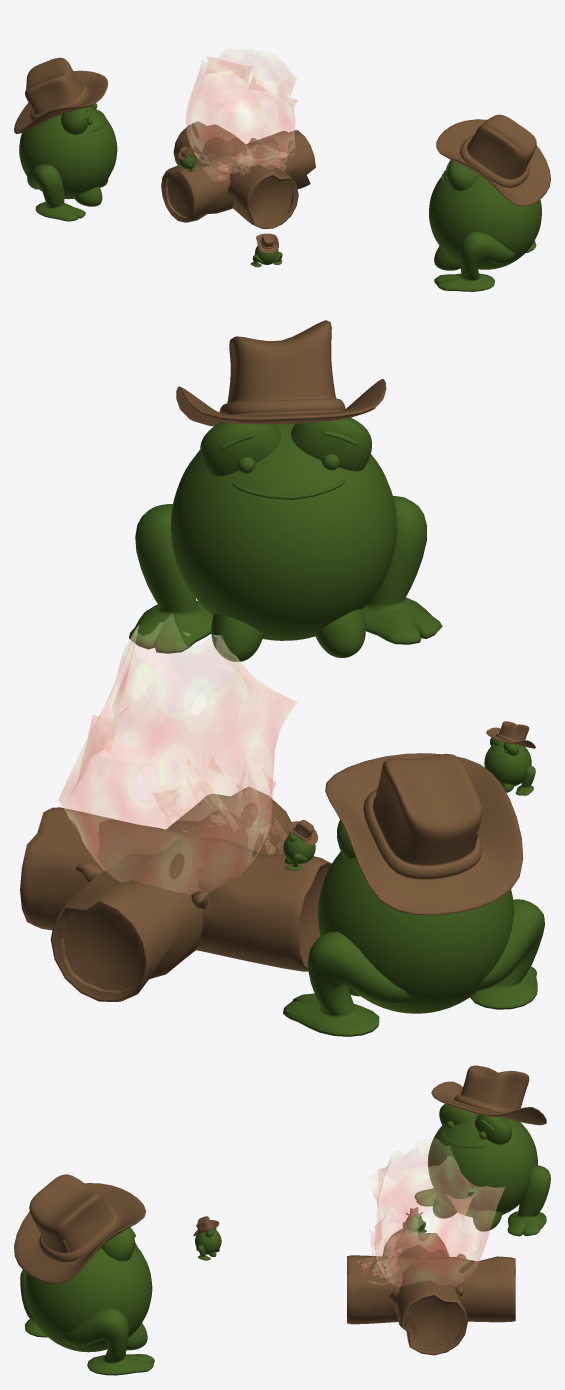
Rendered from Fire-B.glb.
3 views of the same model, one above another, from view 1: azimuth 30°, elevation 25°; view 2: azimuth 150°, elevation 25°; view 3: azimuth 270°, elevation 25° (orthographic). The views are drawn at different scales.
Visible parts, largest first — view 1: frog_boi (×3), log_boi (×2), Large Fire, hat_boi (×3), Mini Fire 1; view 2: frog_boi (×3), log_boi (×2), Large Fire, hat_boi (×2), Mini Fire 1; view 3: frog_boi (×3), log_boi (×2), Large Fire, hat_boi (×2), Mini Fire 1.
Part boxes in pixels (x1,y1,x2,y2): frog_boi (×3): (19,103,541,291); log_boi (×2): (161,121,315,228); Large Fire: (186,48,297,173); hat_boi (×3): (14,57,550,253); Mini Fire 1: (231,145,293,171); frog_boi (×3): (129,417,544,1036); log_boi (×2): (20,787,331,1001); Large Fire: (58,614,296,894); hat_boi (×2): (176,320,523,915); Mini Fire 1: (153,758,238,831); frog_boi (×3): (20,1104,550,1375); log_boi (×2): (347,1228,515,1355); Large Fire: (369,1138,504,1286); hat_boi (×2): (14,1065,546,1283); Mini Fire 1: (357,1247,403,1284).
Size of the model in its own units: 8.18 by 4.28 by 9.59.
3 materials, 1 textured.
